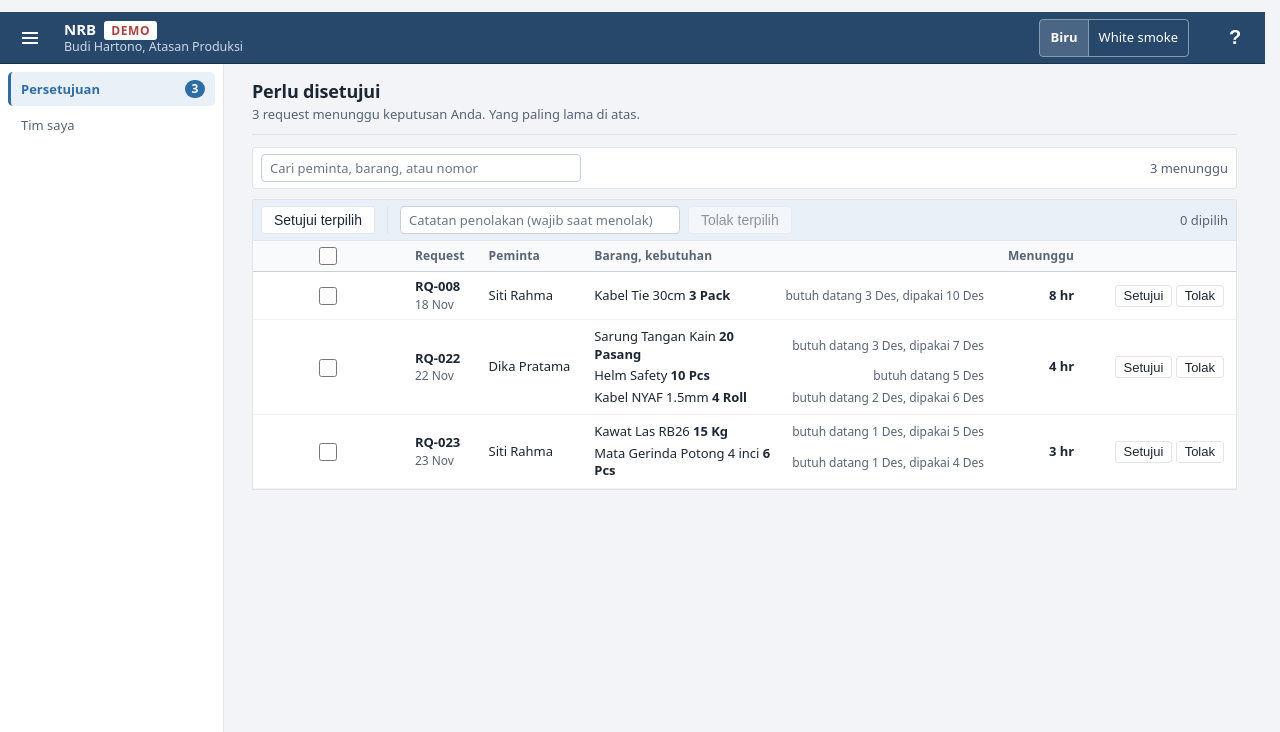
Test case: Atasan desktop: tabel persetujuan › menolak tanpa catatan ditolak dan fokus pindah ke kolom catatan
Check: the button "Persetujuan 3" is shown, box [8, 72, 215, 106]
Click the button "Tolak" in the row of "RQ-008": (1200, 296) [1176, 285, 1224, 307]
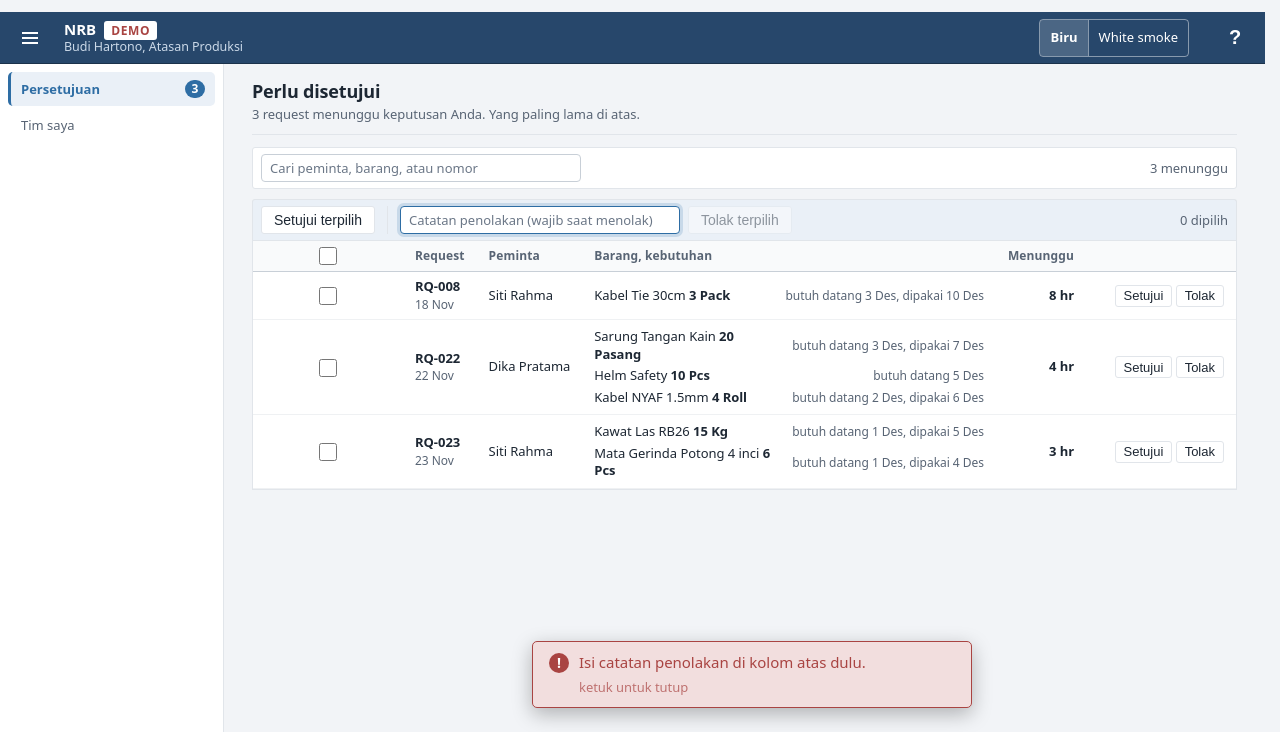
Check: the message with id "toast" shows "catatan", box [579, 652, 866, 672]
